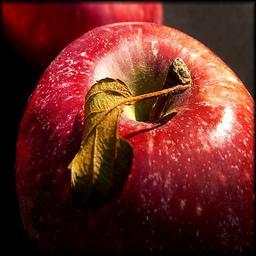apple: (13, 18, 254, 253)
